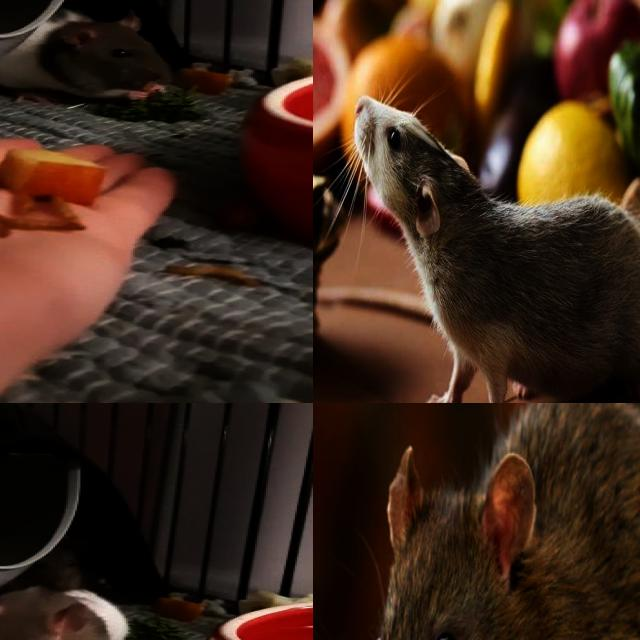rat: (357, 94, 640, 399), (365, 403, 640, 640), (0, 2, 178, 98), (0, 586, 135, 640)
